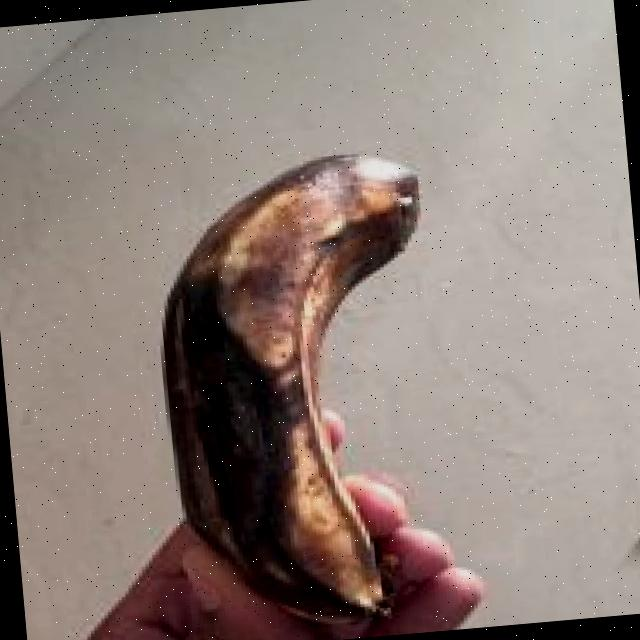Rotten: (60, 91, 501, 640)
